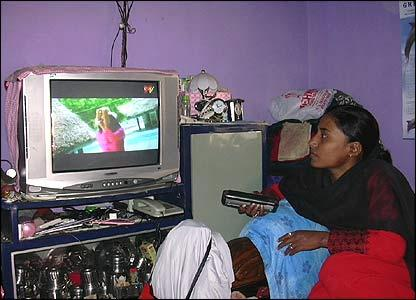person: (227, 101, 410, 300)
